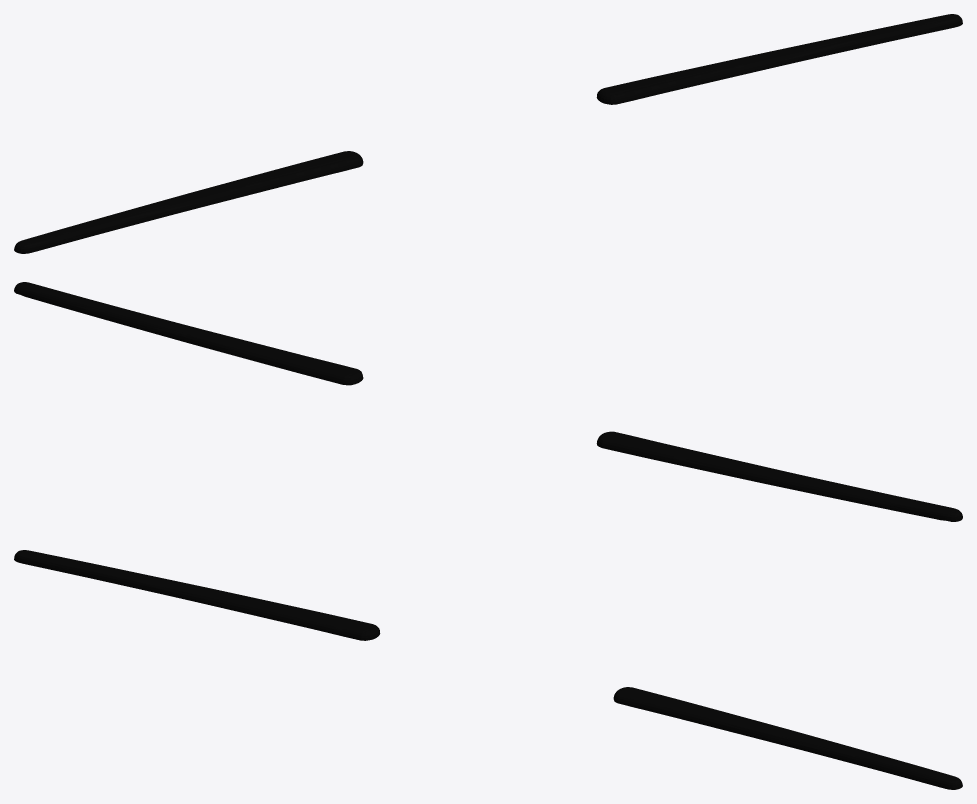
Rendered from indicator_opponent.fbx.
3 views of the same model, one above another, from view 1: azimuth 30°, elevation 25°; view 2: azimuth 150°, elevation 25°; view 3: azimuth 330°, elevation 25° (orthographic).
Visible parts, largest first — view 1: indicator_opponent_alpha; view 2: indicator_opponent_alpha; view 3: indicator_opponent_alpha.
Part boxes in pixels (x1,y1,x2,y2): indicator_opponent_alpha: [14, 14, 962, 253]; indicator_opponent_alpha: [14, 282, 962, 521]; indicator_opponent_alpha: [14, 550, 962, 789].
Bounding box in the file's own units: 37.06 × 0.2779 × 1.44.
